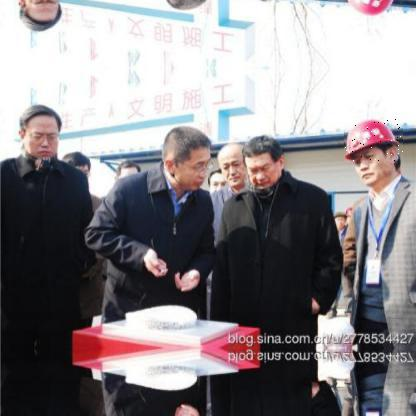safetyhelmet: (344, 118, 404, 164)
